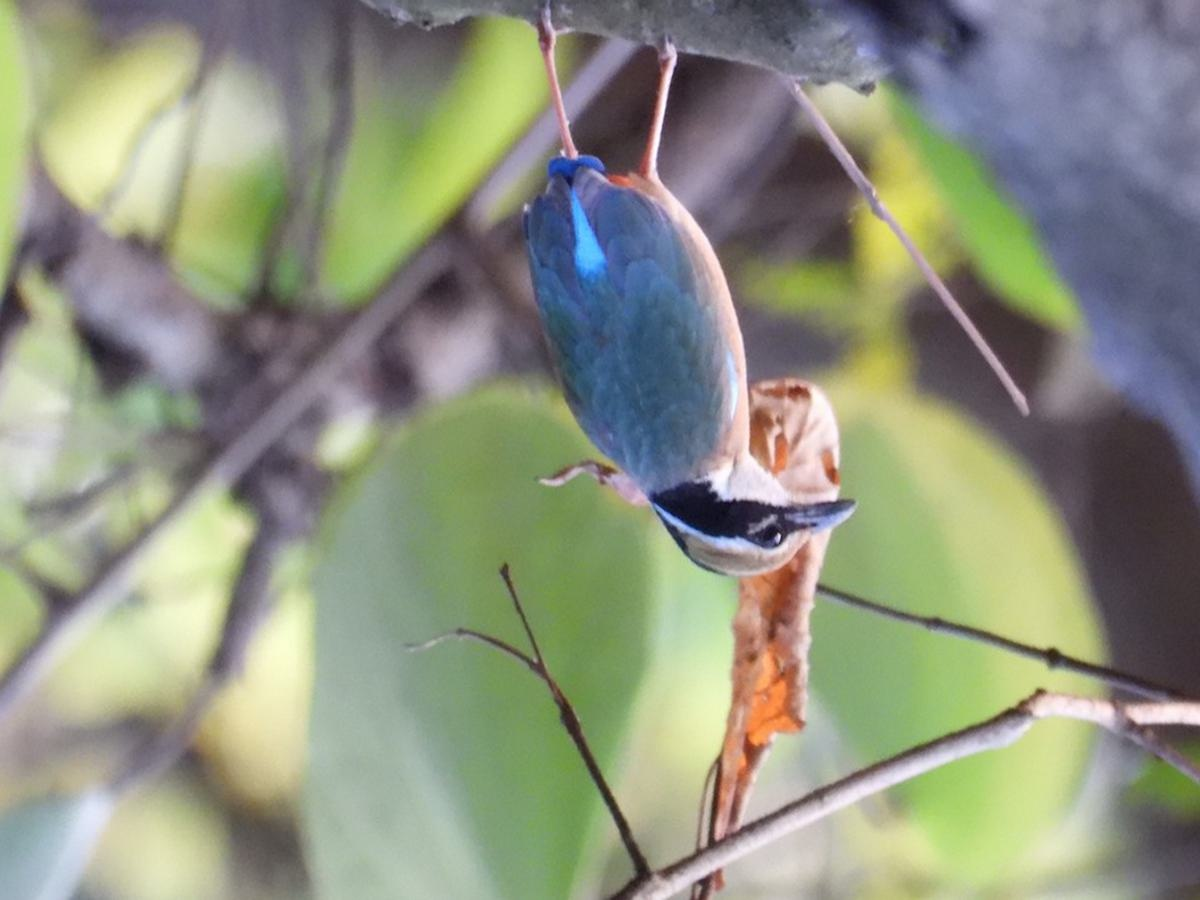pitta: (494, 63, 871, 576)
